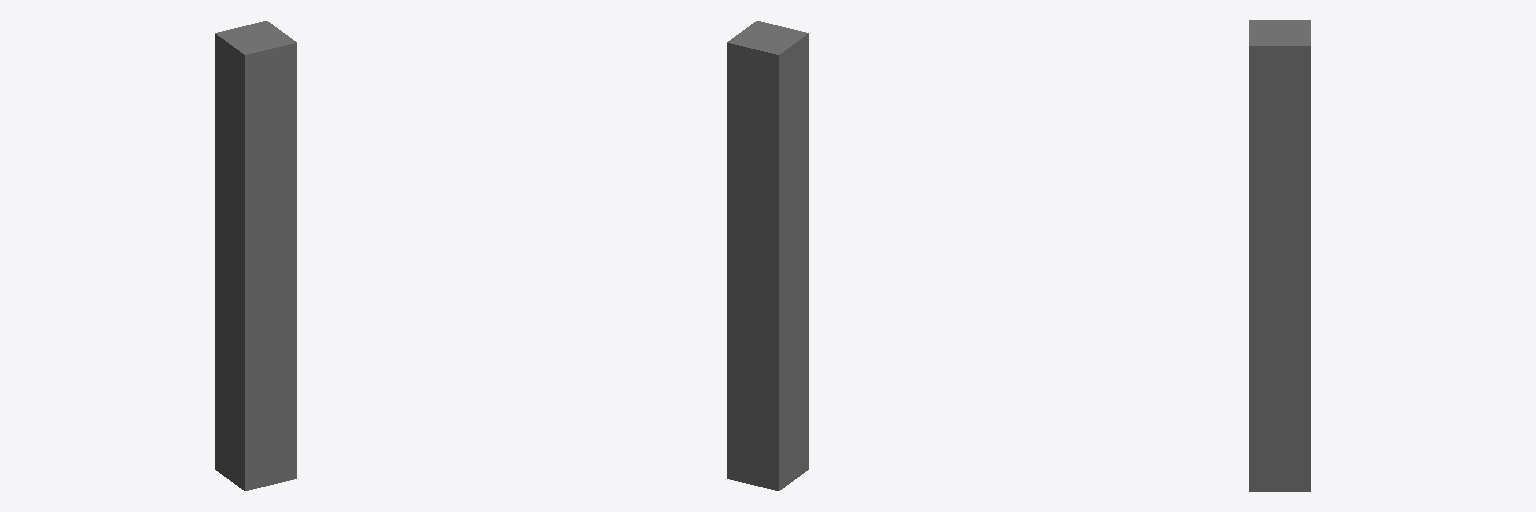
robot.urdf — saeule:
<?xml version="1.0" encoding="utf-8"?>
<robot name="saeule">
    <link name="world"/>
    <joint name="world_to_obstacle" type="fixed">
        <origin xyz="1 0.1 1" rpy="0 0 0"/>
        <parent link="world"/> <!-- oder ganz weglassen, je nach Loader -->
        <child link="obstacle_box"/>
    </joint>
    <link name="obstacle_box">
        <visual>
            <origin rpy="0 0 0" xyz="0 0 0"/>
            <geometry>
                <box size="0.05 0.05 0.4"/> <!-- Breite, Tiefe, Höhe -->
            </geometry>
            <material name="gray">
                <color rgba="0.5 0.5 0.5 1.0"/>
            </material>
        </visual>
        <collision>
            <origin rpy="0 0 0" xyz="0 0 0"/>
            <geometry>
                <box size="0.05 0.05 0.4"/>
            </geometry>
        </collision>
    </link>
</robot>

--- What the picture shows (computed from the rendered views, not written in the file) ---
Views: 3 orthographic renders of the robot side by side, from view 1: azimuth 30°, elevation 25°; view 2: azimuth 150°, elevation 25°; view 3: azimuth 270°, elevation 25°.
Robot: saeule — 2 links, 1 joints (1 fixed); root link world; default pose: every joint at zero.
Visible links, largest first — view 1: obstacle_box; view 2: obstacle_box; view 3: obstacle_box.
Link boxes in pixels (x1,y1,x2,y2): obstacle_box: (215, 21, 296, 490); obstacle_box: (727, 21, 808, 490); obstacle_box: (1249, 20, 1310, 491).
Bounding box of the posed robot: 0.05 × 0.05 × 0.4 m (x, y, z).
Geometry: primitives only (box / cylinder / sphere), no mesh files.